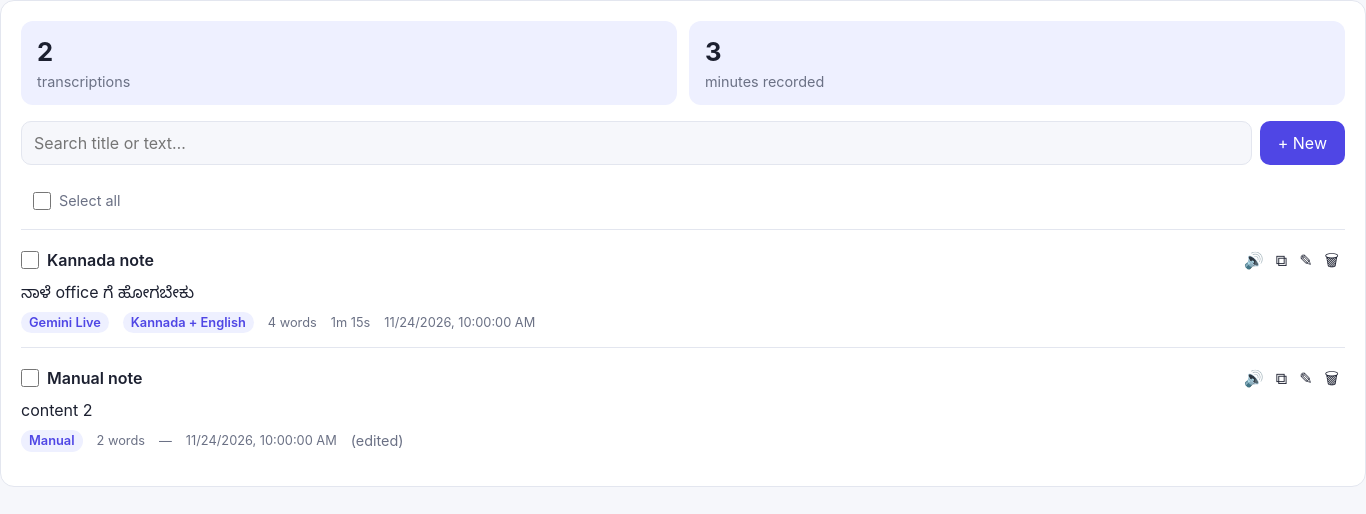
Scenario: HistoryDashboard › multi-select › selects rows one by one and shows the count
Expected: the button "Kannada note" is shown, [47,248,1230,272]
Expected: the text "Select all" is shown, [59,190,120,212]
Click the checkbox named "Select Kannada note". click: (30, 260)
box: [21,251,39,269]
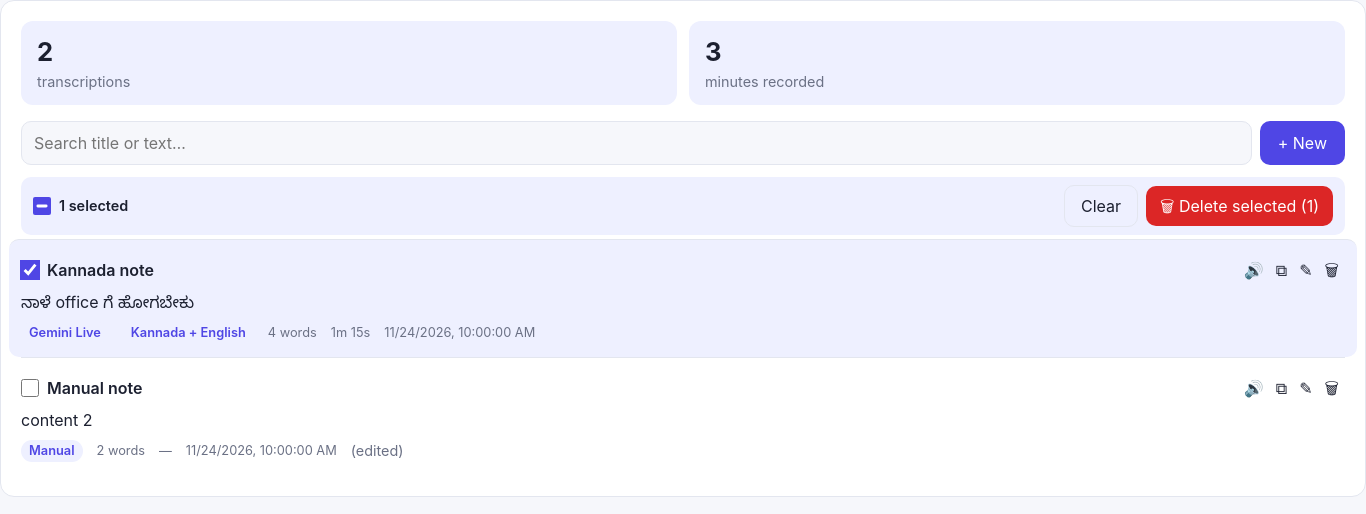
Expected: the checkbox named "Select all on this page" is not checked, [33,197,51,215]
Expected: the text "1 selected" is shown, [59,195,128,217]
Click the checkbox named "Select Kannada note". click: (30, 270)
box: [21,261,39,279]
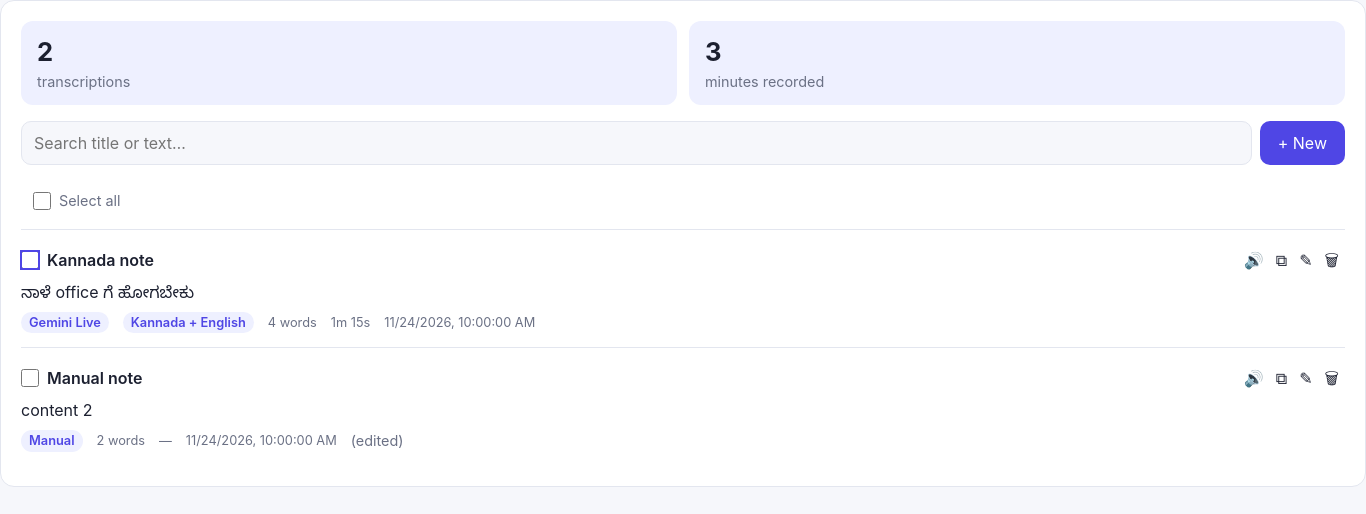
Expected: the text "Select all" is shown, [59,190,120,212]
